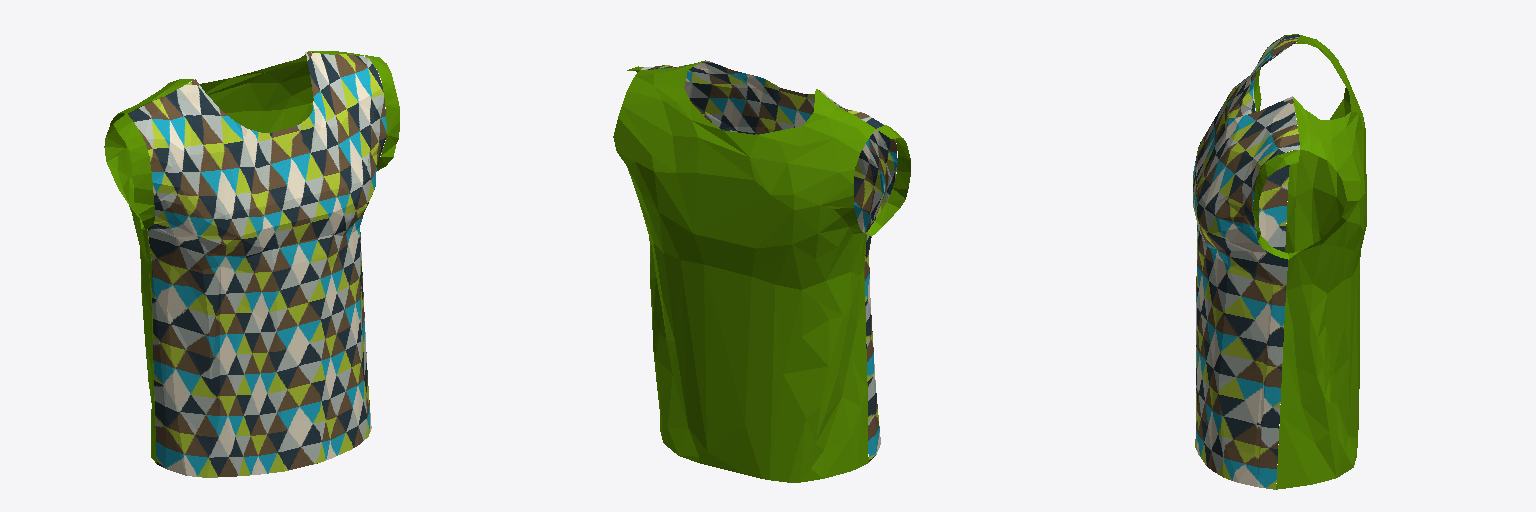
3 views of the same model, side by side, from view 1: azimuth 30°, elevation 25°; view 2: azimuth 150°, elevation 25°; view 3: azimuth 270°, elevation 25° (orthographic).
Parts seen in each view (by area): view 1: T_shirt; view 2: T_shirt; view 3: T_shirt.
Boxes of the visible parts, x1=… form: T_shirt: x1=104, y1=51, x2=399, y2=477; T_shirt: x1=613, y1=60, x2=910, y2=482; T_shirt: x1=1193, y1=34, x2=1366, y2=489.
Size of the model in its own units: 0.2935 by 0.3892 by 0.1639.
2 materials, 1 textured.